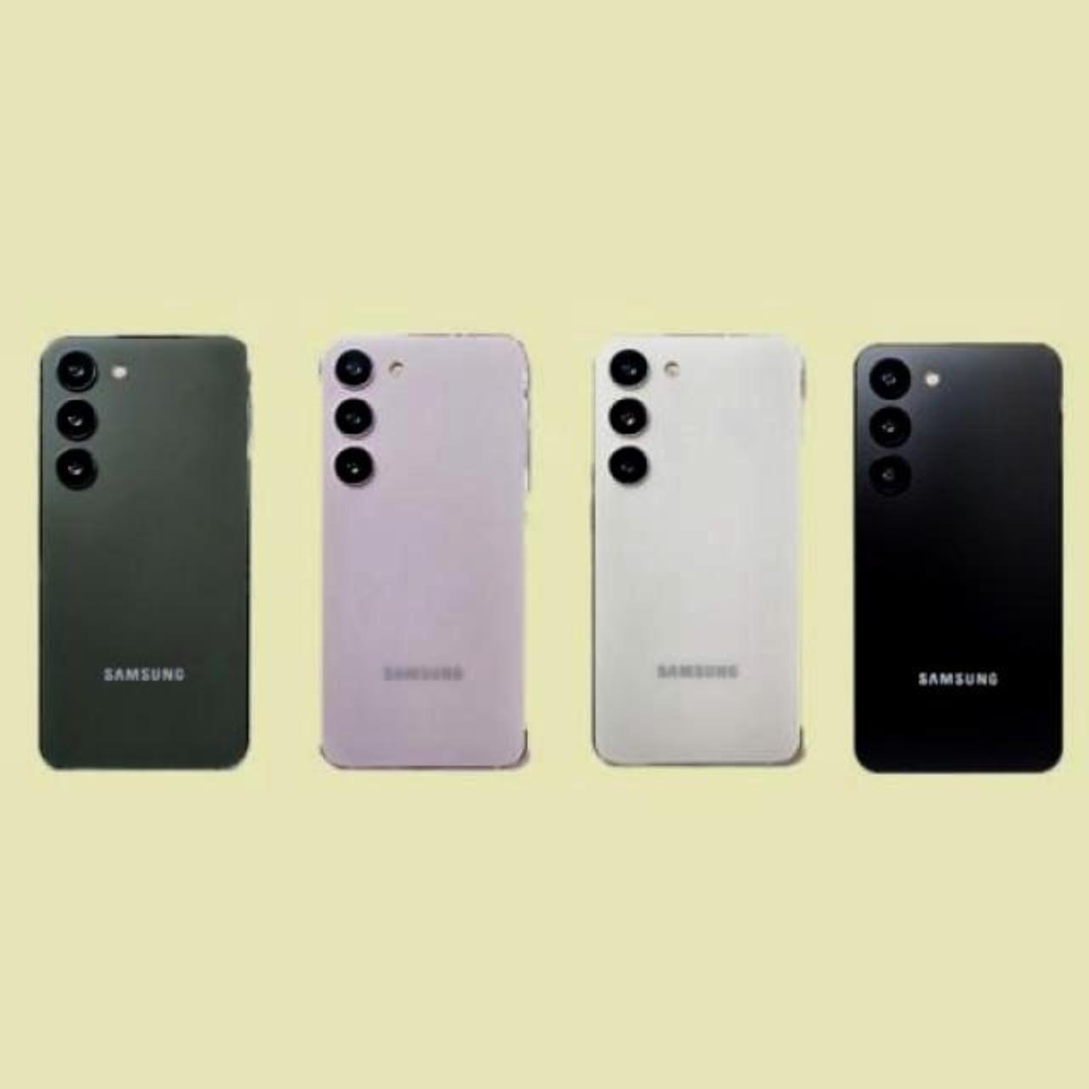phone: (595, 328, 814, 777), (848, 339, 1066, 787), (38, 331, 253, 780), (318, 329, 522, 778)
